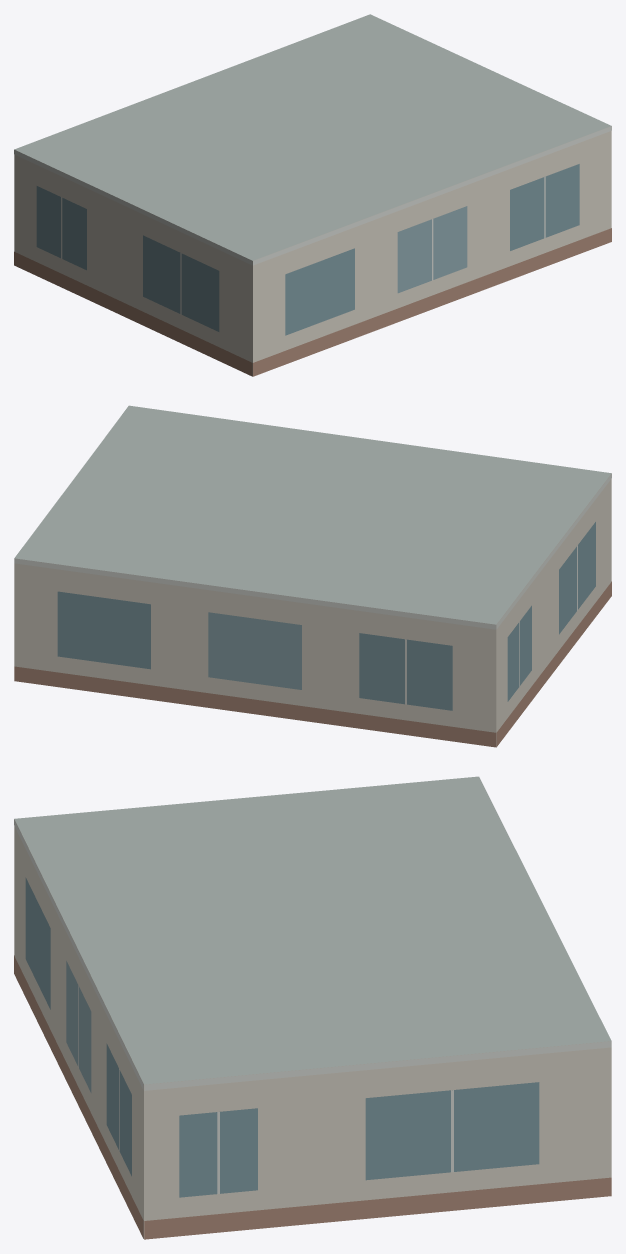
The model's file is survey-upis-32619629.glb.
The picture shows the model from 3 angles, top to bottom: view 1: azimuth 30°, elevation 25°; view 2: azimuth 150°, elevation 25°; view 3: azimuth 270°, elevation 25°; orthographic projection. The views are drawn at different scales.
Parts seen in each view (by area): view 1: survey-upis-32619629.tmp; view 2: survey-upis-32619629.tmp; view 3: survey-upis-32619629.tmp.
Part boxes in pixels (bbox=[...]): survey-upis-32619629.tmp: bbox=[14, 14, 611, 376]; survey-upis-32619629.tmp: bbox=[14, 405, 611, 747]; survey-upis-32619629.tmp: bbox=[14, 776, 611, 1239].
Bounding box in the file's own units: 13.02 × 3.05 × 10.67.
